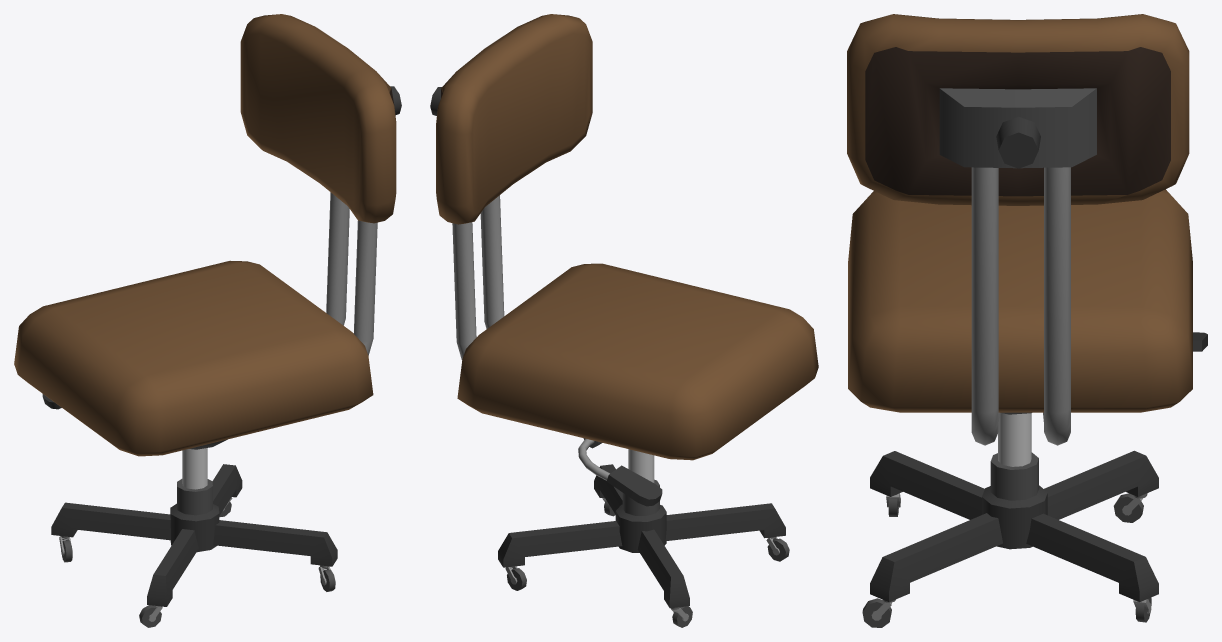
File: chair.glb
The picture shows the model from 3 angles, left to right: view 1: azimuth 30°, elevation 25°; view 2: azimuth 150°, elevation 25°; view 3: azimuth 270°, elevation 25°; orthographic projection. The views are drawn at different scales.
Parts seen in each view (by area): view 1: chair.001; view 2: chair.001; view 3: chair.001.
Boxes of the visible parts, box(x1,y1,x2,y2) form: chair.001: box(14, 14, 401, 627); chair.001: box(430, 14, 818, 627); chair.001: box(847, 14, 1207, 627).
Bounding box in the file's own units: 0.9848 × 1.41 × 0.7179.
